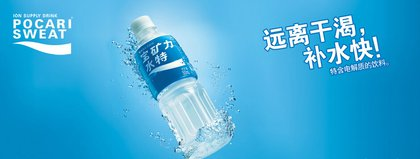POCARI SWEAT: (124, 14, 238, 158)
